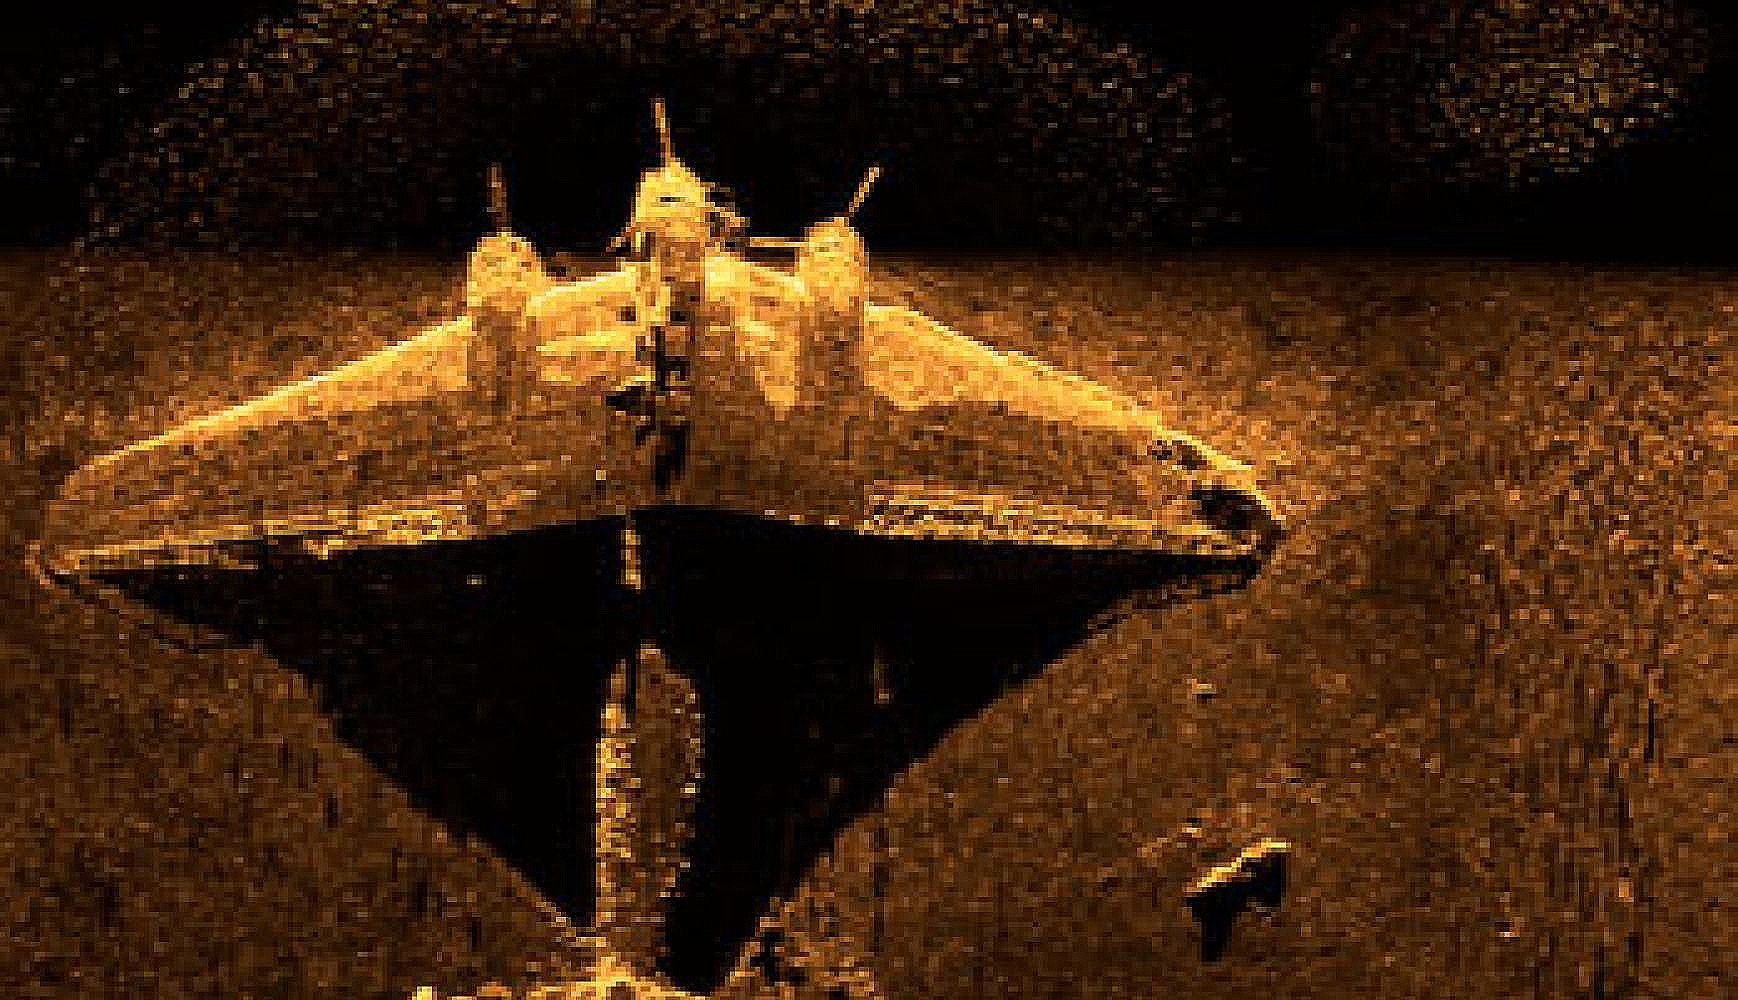aircraft: (24, 79, 1298, 996)
